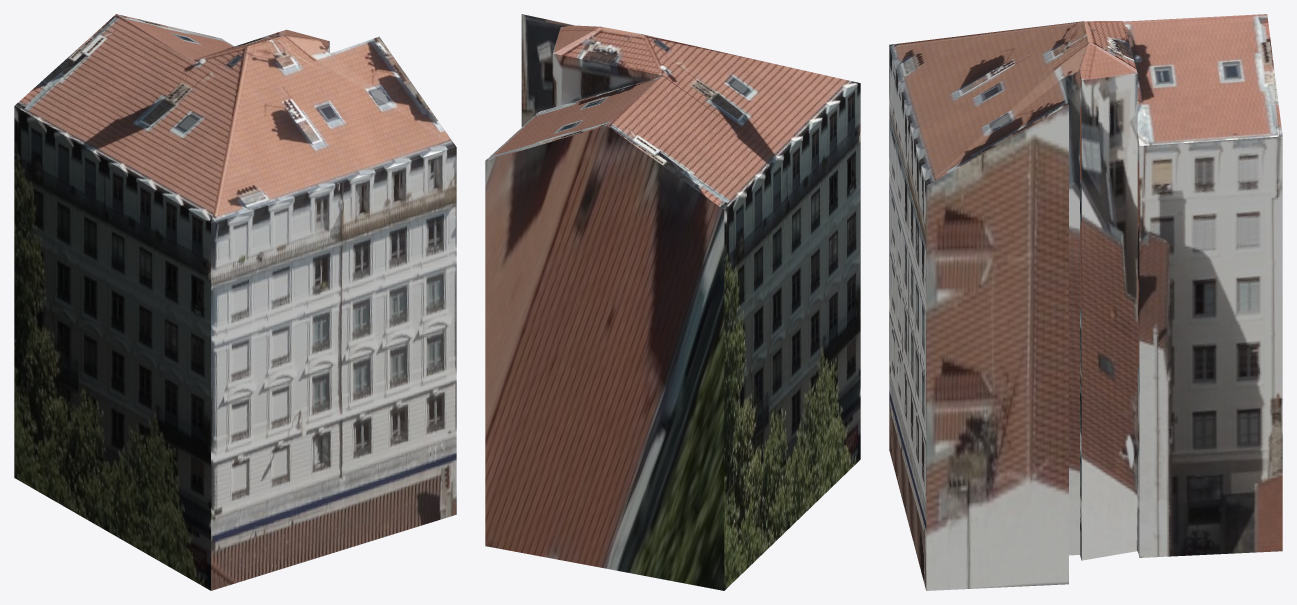
3 views of the same model, side by side, from view 1: azimuth 30°, elevation 25°; view 2: azimuth 150°, elevation 25°; view 3: azimuth 270°, elevation 25° (orthographic). The views are drawn at different scales.
Parts seen in each view (by area): view 1: Z_UP; view 2: Z_UP; view 3: Z_UP.
Boxes of the visible parts, box(x1,y1,x2,y2) form: Z_UP: box(14, 14, 456, 590); Z_UP: box(485, 14, 860, 590); Z_UP: box(889, 14, 1282, 590).
Bounding box in the file's own units: 19.44 × 28.39 × 20.44.
2 materials, 1 textured.
